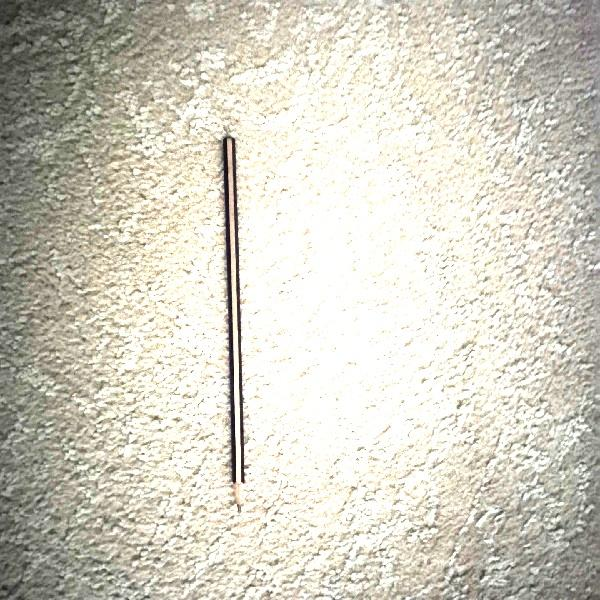pencil: (220, 134, 249, 518)
